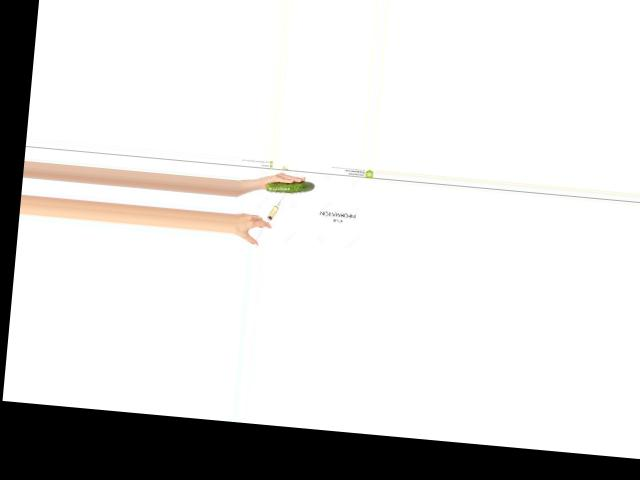cucumber: (265, 177, 314, 195)
